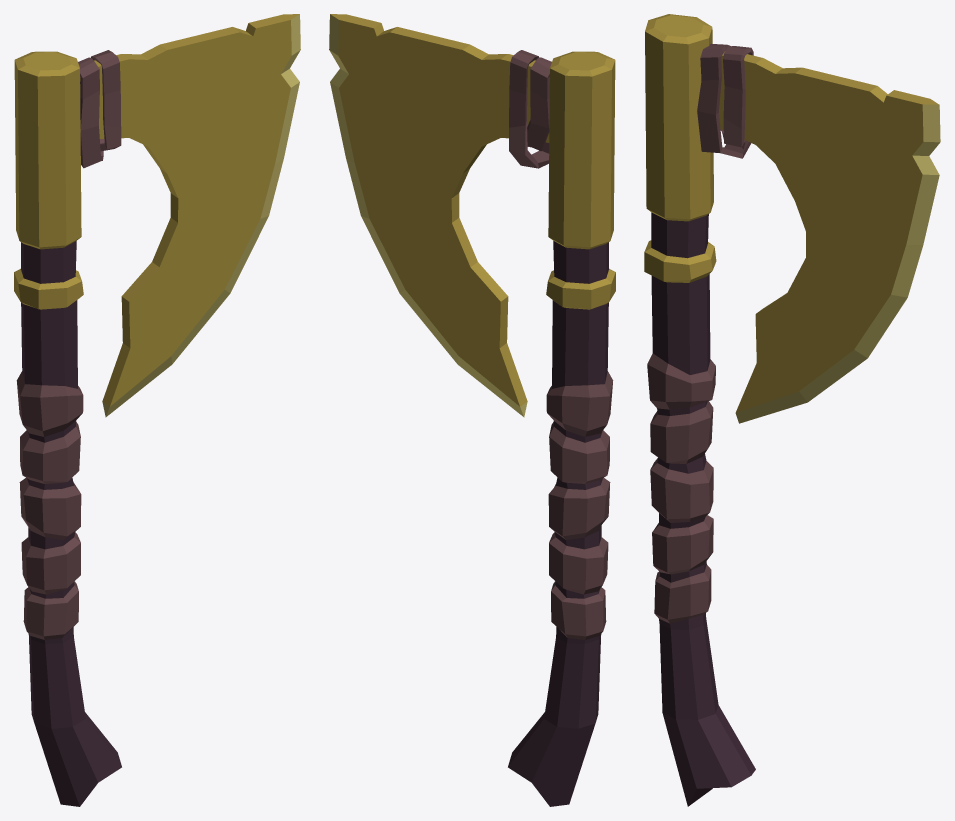
Rendered from Axe_small_Golden.glb.
The picture shows the model from 3 angles, left to right: view 1: azimuth 30°, elevation 25°; view 2: azimuth 150°, elevation 25°; view 3: azimuth 330°, elevation 25°; orthographic projection. The views are drawn at different scales.
Parts seen in each view (by area): view 1: Axe_small_Golden; view 2: Axe_small_Golden; view 3: Axe_small_Golden.
Part boxes in pixels (left/top/right/bottom): Axe_small_Golden: left=14, top=14, right=300, bottom=806; Axe_small_Golden: left=329, top=14, right=615, bottom=806; Axe_small_Golden: left=644, top=14, right=940, bottom=806.
Size of the model in its own units: 0.1613 by 0.4073 by 0.0342.
